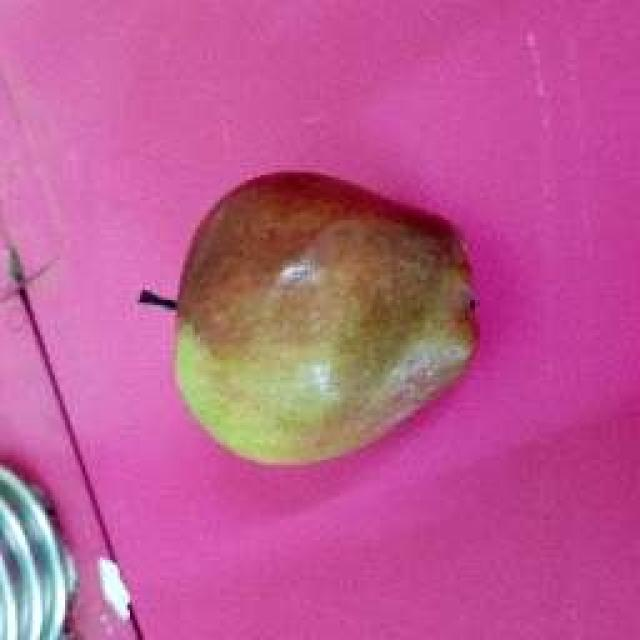Good_Apple: (176, 172, 474, 463)
